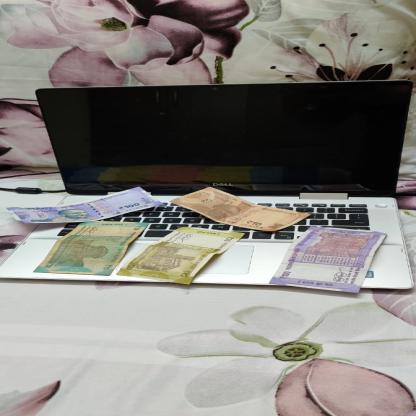New100Back: (268, 226, 388, 293)
New100Front: (5, 186, 165, 224)
New10Front: (167, 186, 310, 232)
New20Back: (117, 227, 246, 285)
New50Back: (33, 221, 150, 276)
